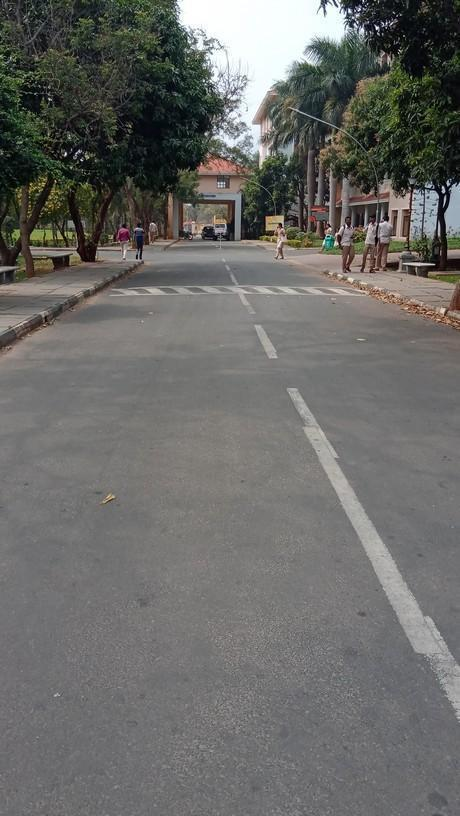speedbreaker: (124, 279, 373, 305)
